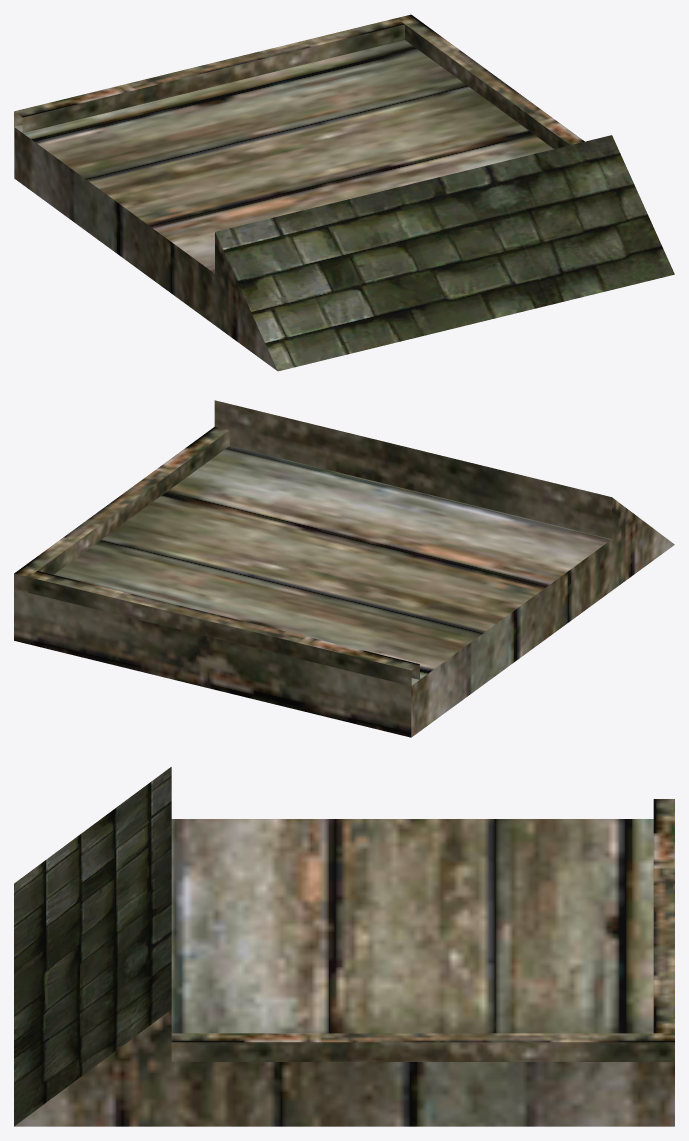
3 renders of one model, top to bottom at view 1: azimuth 30°, elevation 25°; view 2: azimuth 150°, elevation 25°; view 3: azimuth 270°, elevation 25°, orthographic. The views are drawn at different scales.
Parts seen in each view (by area): view 1: HouseWall06; view 2: HouseWall06; view 3: HouseWall06.
Boxes of the visible parts, x1,y1,x2,y2 form: HouseWall06: (14, 14, 674, 371); HouseWall06: (14, 400, 674, 737); HouseWall06: (14, 767, 674, 1126).
Size of the model in its own units: 400 by 90.04 by 460.
